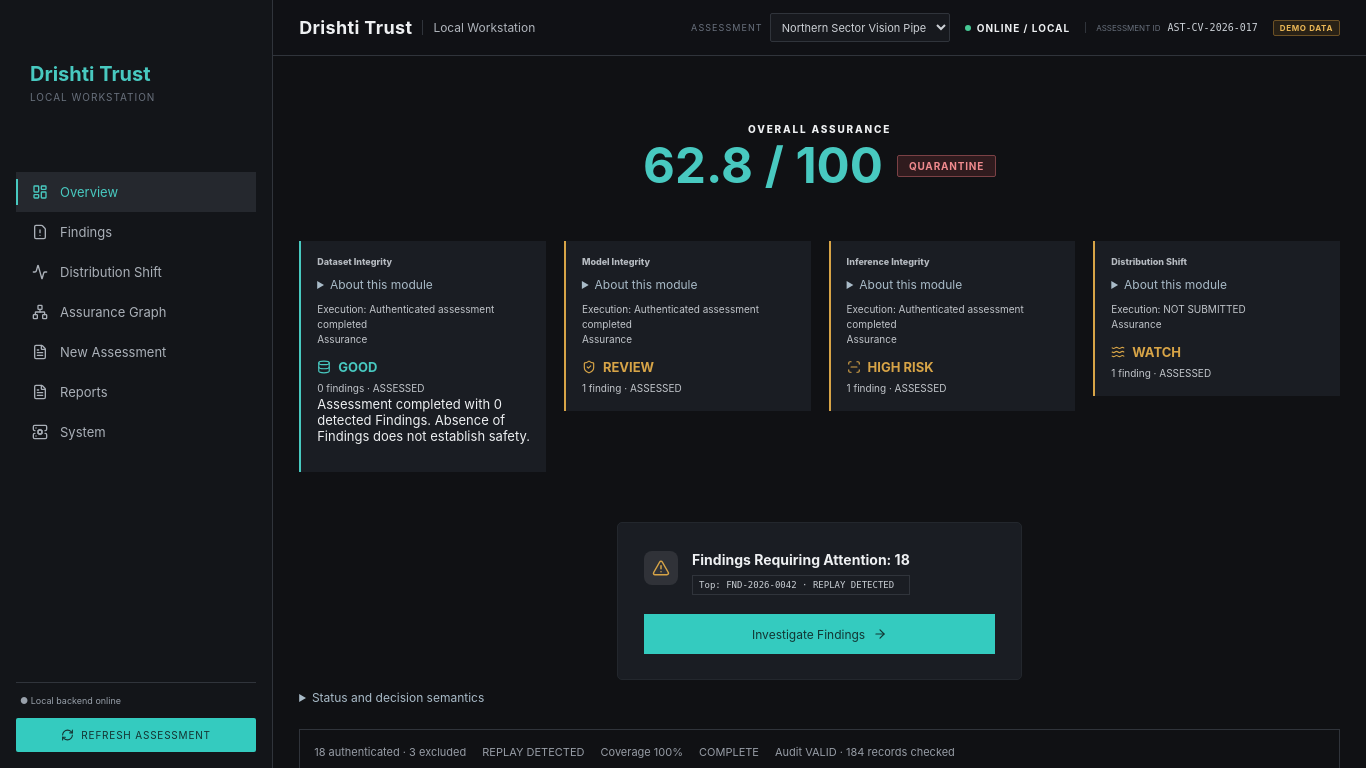
DRISHTI reference UI › assessment selection reloads the selected summary
Select "Perimeter Model Baseline · AST-CV-2026-011" in the dropdown labelled "Assessment": (860, 28) [770,13,950,42]
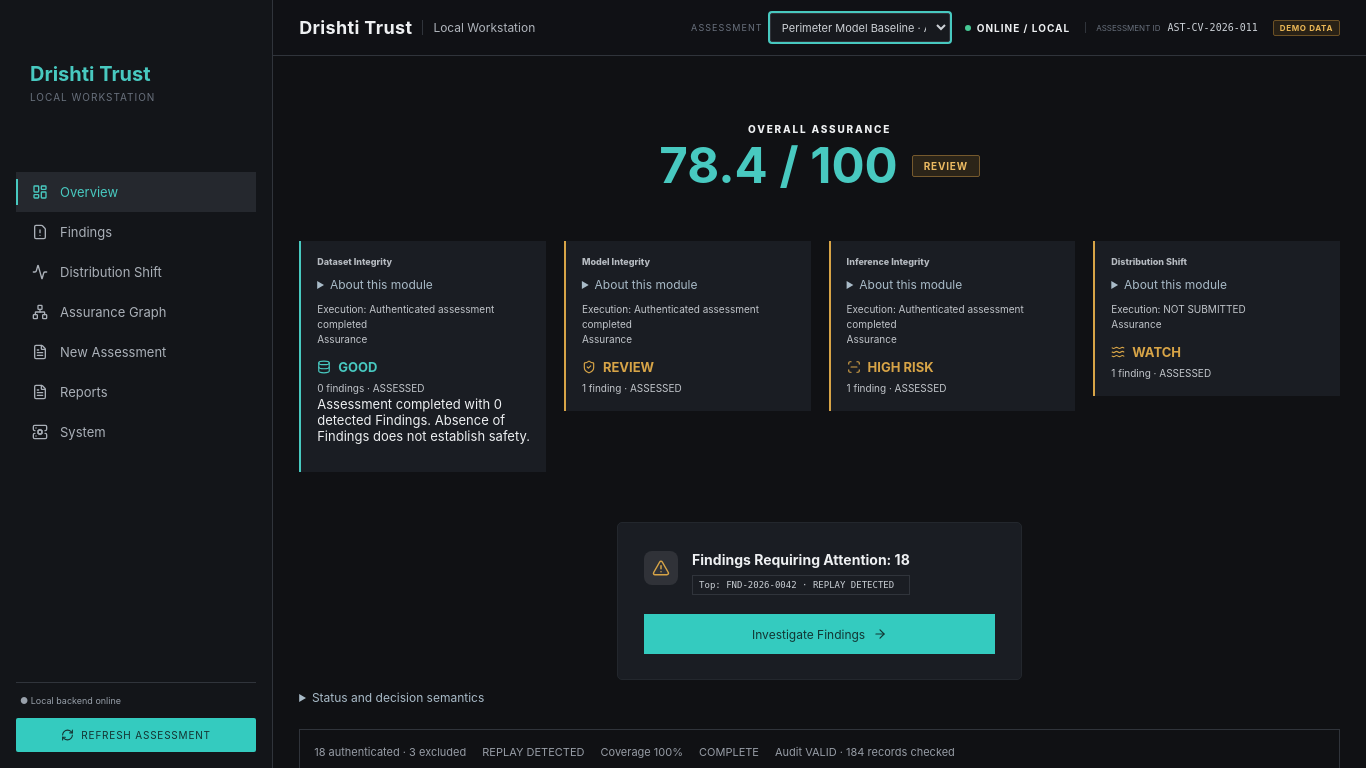
Now the text "AST-CV-2026-011" is shown, box [1168,22,1258,33]
